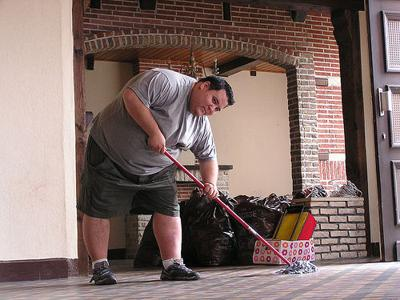person: (75, 67, 236, 288)
